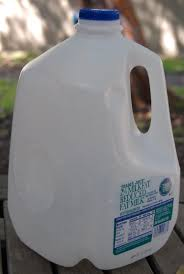milk: (16, 8, 179, 265)
